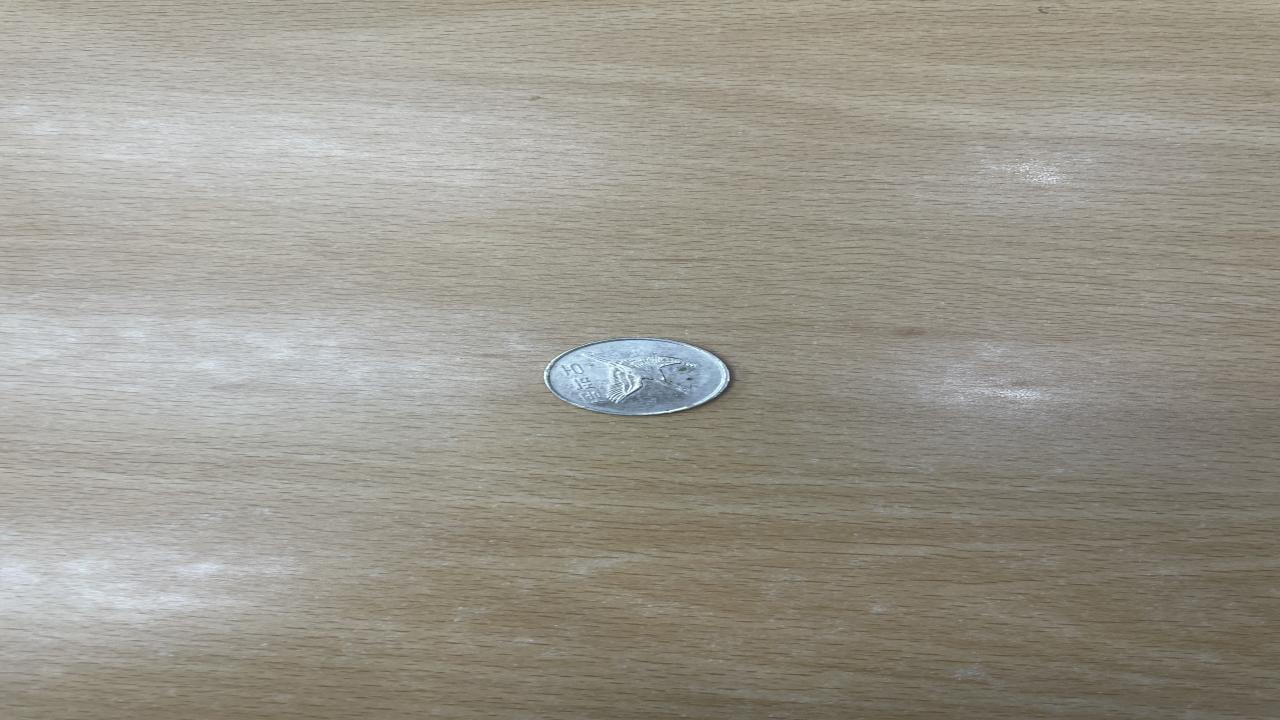coin: (541, 336, 735, 416)
